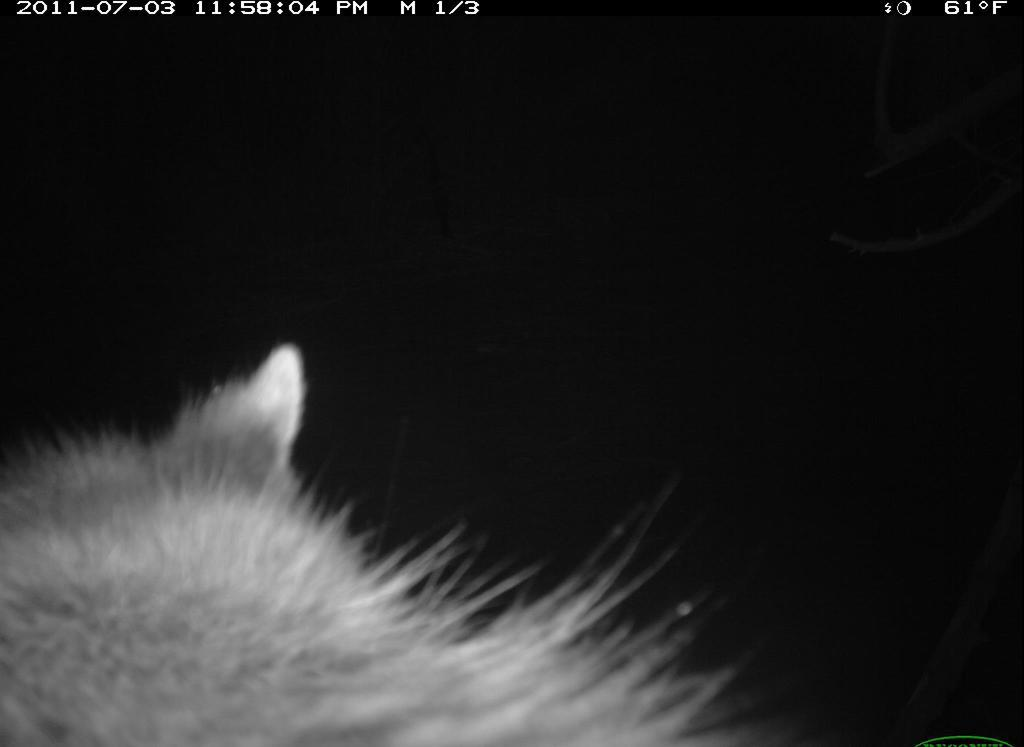raccoon: (1, 333, 758, 747)
